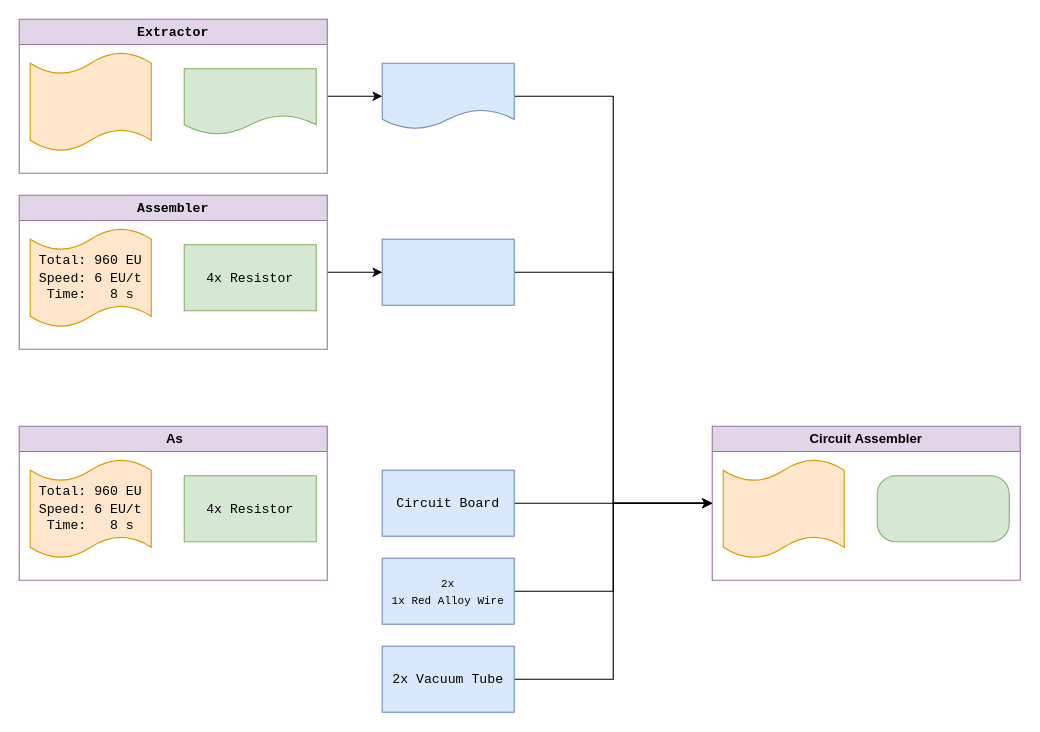
The diagram is 1040 pixels wide and 732 high, and some of its shapes have lost their labels. The centre of each missing label's shape, as x and y in pixels:
"144mB Soldering Alloy" belongs at pixel 249 101.
"2x Electronic Circuit" belongs at pixel 942 508.
"2x Resistor" belongs at pixel 447 271.
"72mB Soldering Alloy" belongs at pixel 447 95.
"Total: 3200 EU Speed: 16 EU/t Time: 10 s" belongs at pixel 783 508.
"Total: 4350 EU Speed: 30 EU/t Time: 7.25 s" belongs at pixel 90 101.
